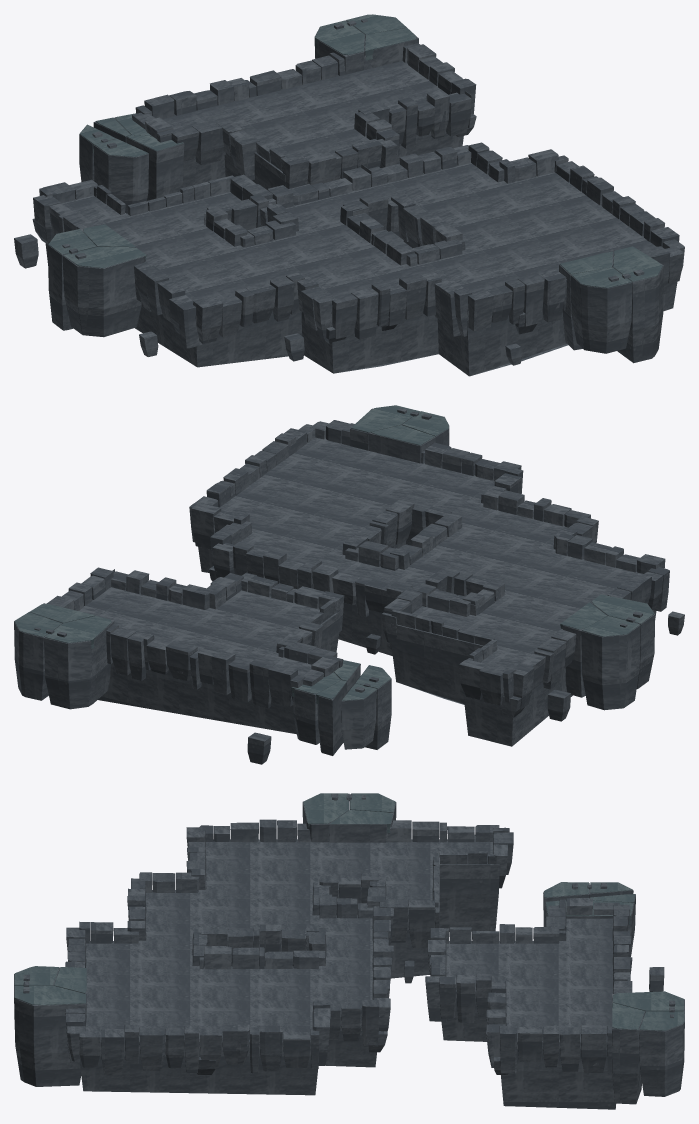
Rendered from chapter2_stage23_geology.glb.
3 renders of one model, top to bottom at view 1: azimuth 30°, elevation 25°; view 2: azimuth 150°, elevation 25°; view 3: azimuth 270°, elevation 25°, orthographic. The views are drawn at different scales.
Parts seen in each view (by area): view 1: stage23_continuous_rock_strata; view 2: stage23_continuous_rock_strata; view 3: stage23_continuous_rock_strata.
Boxes of the visible parts, x1=… form: stage23_continuous_rock_strata: x1=14, y1=14, x2=684, y2=376; stage23_continuous_rock_strata: x1=14, y1=405, x2=684, y2=764; stage23_continuous_rock_strata: x1=14, y1=793, x2=684, y2=1109.
Bounding box in the file's own units: 9.36 × 1.67 × 11.17.
2 materials, 2 textured.
